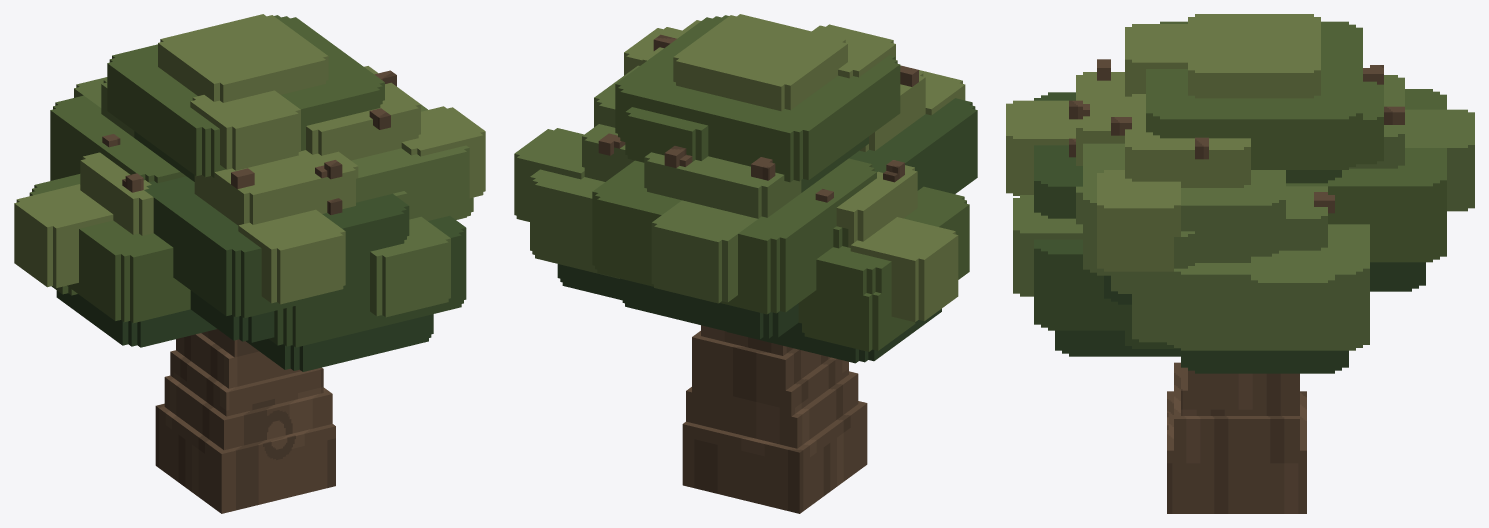
The model's file is apple_ancient_3.glb.
3 renders of one model, left to right at view 1: azimuth 30°, elevation 25°; view 2: azimuth 150°, elevation 25°; view 3: azimuth 270°, elevation 25°, orthographic. The views are drawn at different scales.
Visible parts, largest first — view 1: VoxelVisual; view 2: VoxelVisual; view 3: VoxelVisual.
Part boxes in pixels (<box>): VoxelVisual: <box>14,14,485,513</box>; VoxelVisual: <box>514,14,977,513</box>; VoxelVisual: <box>1006,14,1474,513</box>.
Size of what is drawn, in the model's own units: 17.5 by 17.5 by 16.75.
